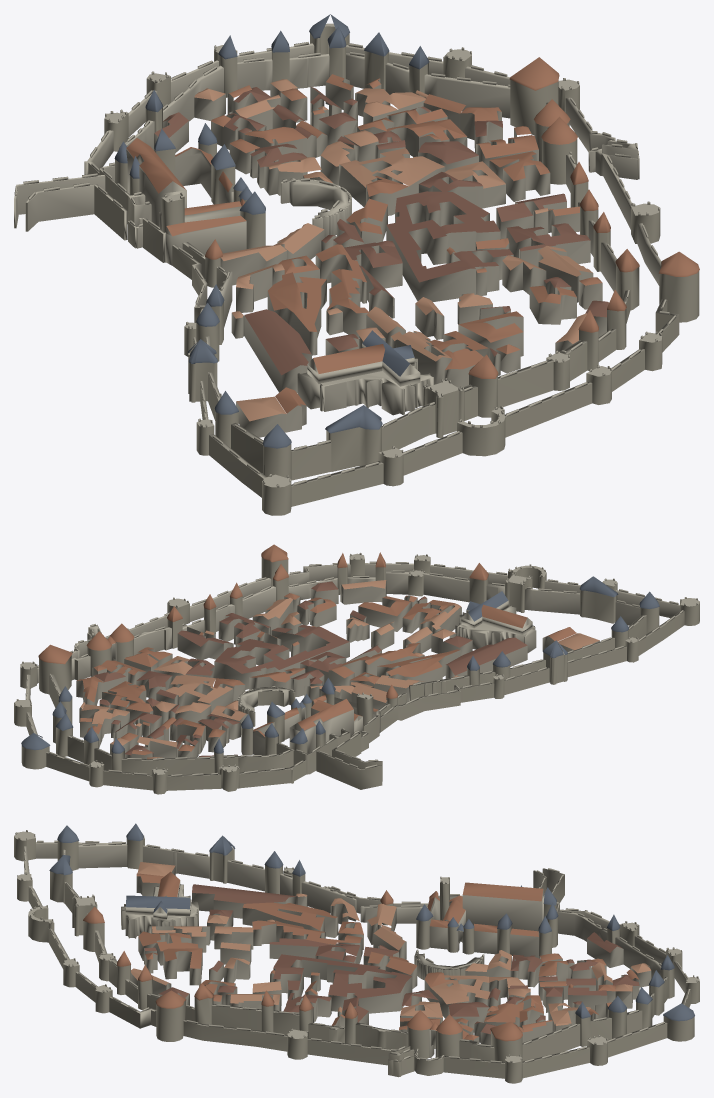
File: cite-de-carcassonne-far.glb
The picture shows the model from 3 angles, top to bottom: view 1: azimuth 30°, elevation 25°; view 2: azimuth 150°, elevation 25°; view 3: azimuth 270°, elevation 25°; orthographic projection. The views are drawn at different scales.
Visible parts, largest first — view 1: cite-de-carcassonne-0-stone, cite-de-carcassonne-0-glow, cite-de-carcassonne-0-tile, cite-de-carcassonne-0-tileDark, cite-de-carcassonne-0-tilePale, cite-de-carcassonne-0-slate; view 2: cite-de-carcassonne-0-stone, cite-de-carcassonne-0-glow, cite-de-carcassonne-0-tile, cite-de-carcassonne-0-tileDark, cite-de-carcassonne-0-tilePale, cite-de-carcassonne-0-slate; view 3: cite-de-carcassonne-0-stone, cite-de-carcassonne-0-glow, cite-de-carcassonne-0-tile, cite-de-carcassonne-0-tileDark, cite-de-carcassonne-0-tilePale, cite-de-carcassonne-0-slate.
Boxes of the visible parts, x1=… form: cite-de-carcassonne-0-stone: x1=14, y1=23, x2=678, y2=487; cite-de-carcassonne-0-glow: x1=25, y1=26, x2=699, y2=515; cite-de-carcassonne-0-tile: x1=126, y1=57, x2=699, y2=413; cite-de-carcassonne-0-tileDark: x1=154, y1=87, x2=608, y2=375; cite-de-carcassonne-0-tilePale: x1=194, y1=79, x2=592, y2=421; cite-de-carcassonne-0-slate: x1=114, y1=14, x2=429, y2=448; cite-de-carcassonne-0-stone: x1=14, y1=553, x2=699, y2=776; cite-de-carcassonne-0-glow: x1=14, y1=557, x2=699, y2=794; cite-de-carcassonne-0-tile: x1=38, y1=544, x2=576, y2=755; cite-de-carcassonne-0-tileDark: x1=94, y1=581, x2=527, y2=757; cite-de-carcassonne-0-tilePale: x1=81, y1=580, x2=599, y2=759; cite-de-carcassonne-0-slate: x1=21, y1=576, x2=659, y2=753; cite-de-carcassonne-0-stone: x1=14, y1=830, x2=699, y2=1063; cite-de-carcassonne-0-glow: x1=14, y1=836, x2=699, y2=1083; cite-de-carcassonne-0-tile: x1=83, y1=871, x2=638, y2=1041; cite-de-carcassonne-0-tileDark: x1=144, y1=884, x2=639, y2=1034; cite-de-carcassonne-0-tilePale: x1=131, y1=862, x2=650, y2=1025; cite-de-carcassonne-0-slate: x1=49, y1=823, x2=694, y2=1021.
Bounding box in the file's own units: 366 × 35 × 458.
